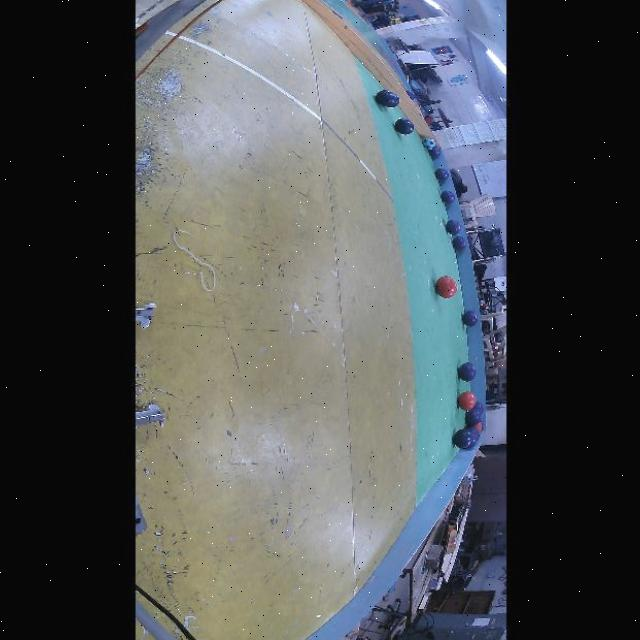P: (456, 363, 476, 381), (374, 89, 394, 107), (452, 429, 470, 448), (393, 118, 412, 134), (462, 432, 477, 451), (464, 409, 480, 426), (461, 310, 477, 327), (445, 220, 460, 235), (451, 236, 465, 251), (466, 427, 480, 441), (440, 190, 454, 204), (433, 168, 447, 182), (427, 146, 441, 160), (472, 402, 483, 414), (391, 94, 398, 107)
R: (434, 276, 456, 298), (456, 391, 474, 411), (474, 424, 481, 432)
